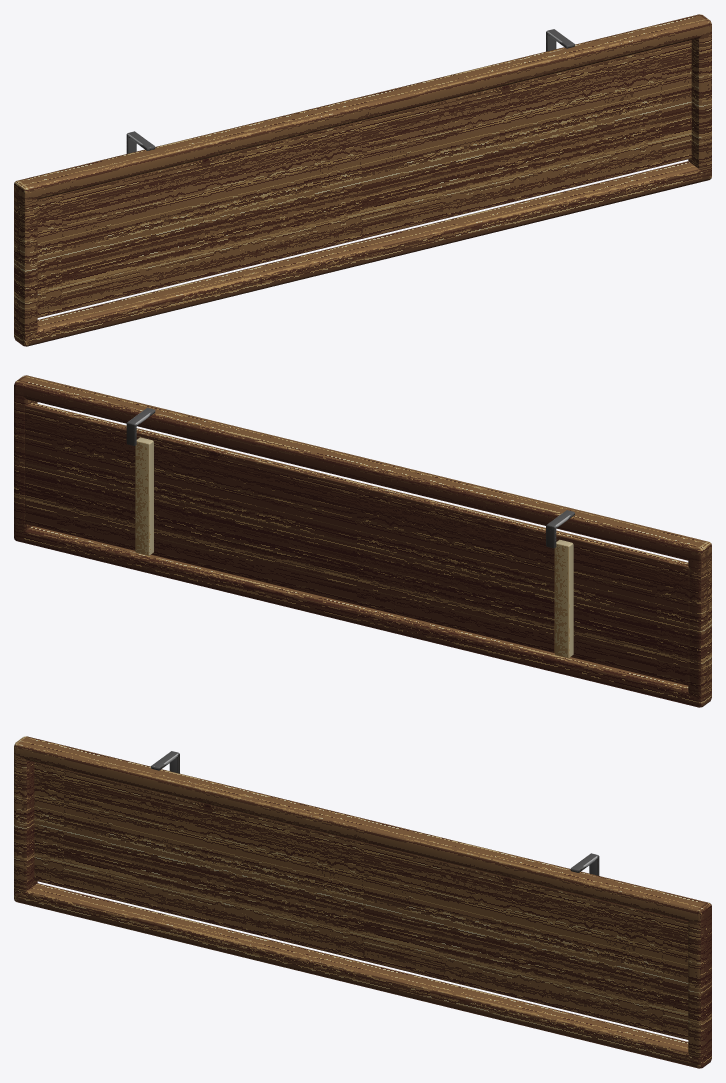
Rendered from signboard.glb.
3 views of the same model, one above another, from view 1: azimuth 30°, elevation 25°; view 2: azimuth 150°, elevation 25°; view 3: azimuth 330°, elevation 25° (orthographic).
Parts seen in each view (by area): view 1: mesh; view 2: mesh; view 3: mesh.
Boxes of the visible parts, box(x1,y1,x2,y2) form: mesh: box(14, 14, 711, 346); mesh: box(14, 375, 711, 707); mesh: box(14, 736, 711, 1068).
Bounding box in the file's own units: 2.3 × 0.5208 × 0.1659.
1 material, 1 textured.
